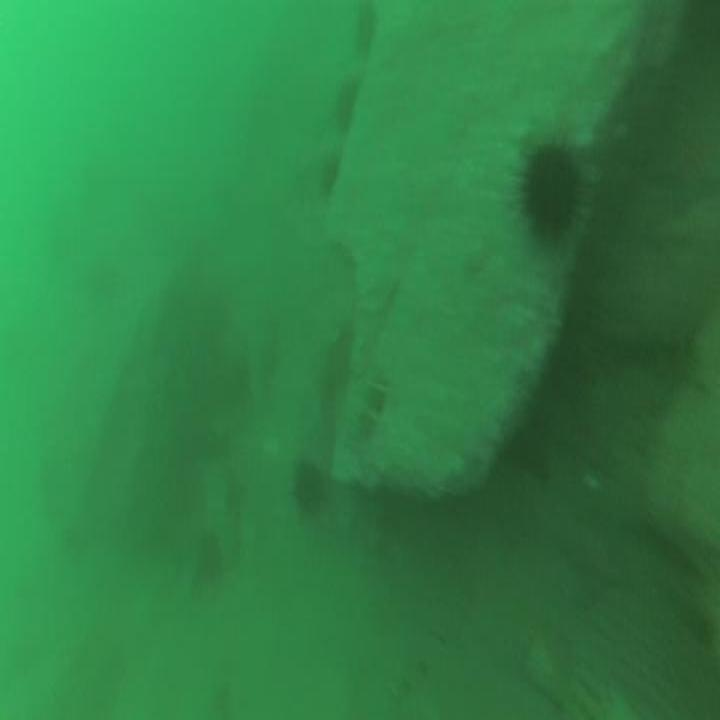echinus: (506, 122, 593, 258), (283, 453, 330, 521), (314, 142, 343, 210), (332, 73, 362, 133), (350, 14, 381, 54)
